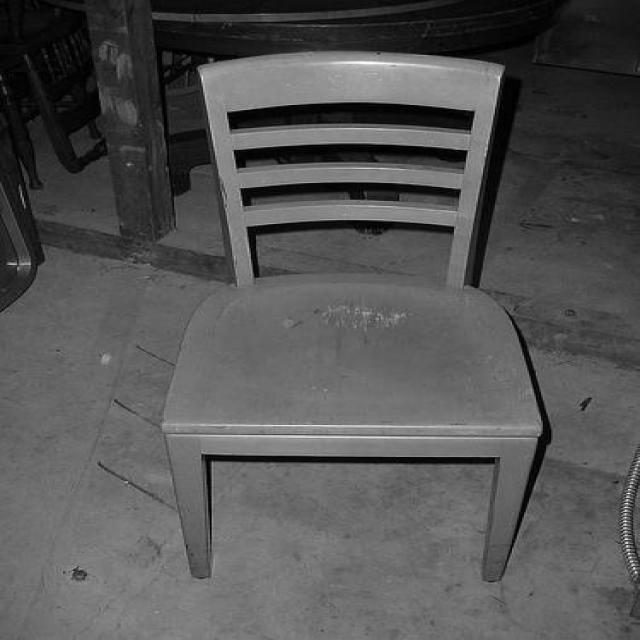chair: (151, 49, 547, 580)
